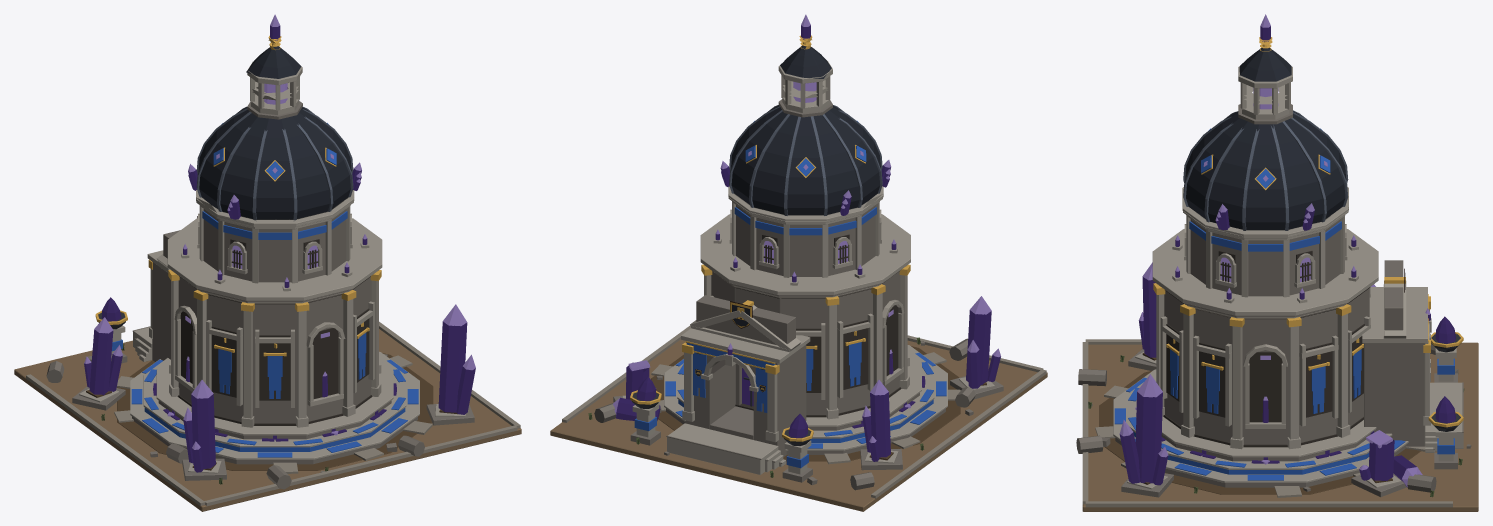
Rendered from 神秘圣地_手游_近.glb.
The picture shows the model from 3 angles, left to right: view 1: azimuth 30°, elevation 25°; view 2: azimuth 150°, elevation 25°; view 3: azimuth 270°, elevation 25°; orthographic projection. The views are drawn at different scales.
Visible parts, largest first — view 1: MS-主体, MS-自发光, MS-team; view 2: MS-主体, MS-自发光, MS-team; view 3: MS-主体, MS-自发光, MS-team.
Boxes of the visible parts, bbox=[...] form: MS-主体: bbox=[14, 35, 521, 511]; MS-自发光: bbox=[84, 14, 475, 472]; MS-team: bbox=[112, 123, 418, 457]; MS-主体: bbox=[550, 35, 1047, 511]; MS-自发光: bbox=[613, 14, 1000, 461]; MS-team: bbox=[634, 121, 946, 468]; MS-主体: bbox=[1076, 37, 1478, 511]; MS-自发光: bbox=[1119, 14, 1455, 487]; MS-team: bbox=[1114, 128, 1454, 480].
Bounding box in the file's own units: 13.7 × 16.18 × 14.17.
4 materials, 2 textured.
